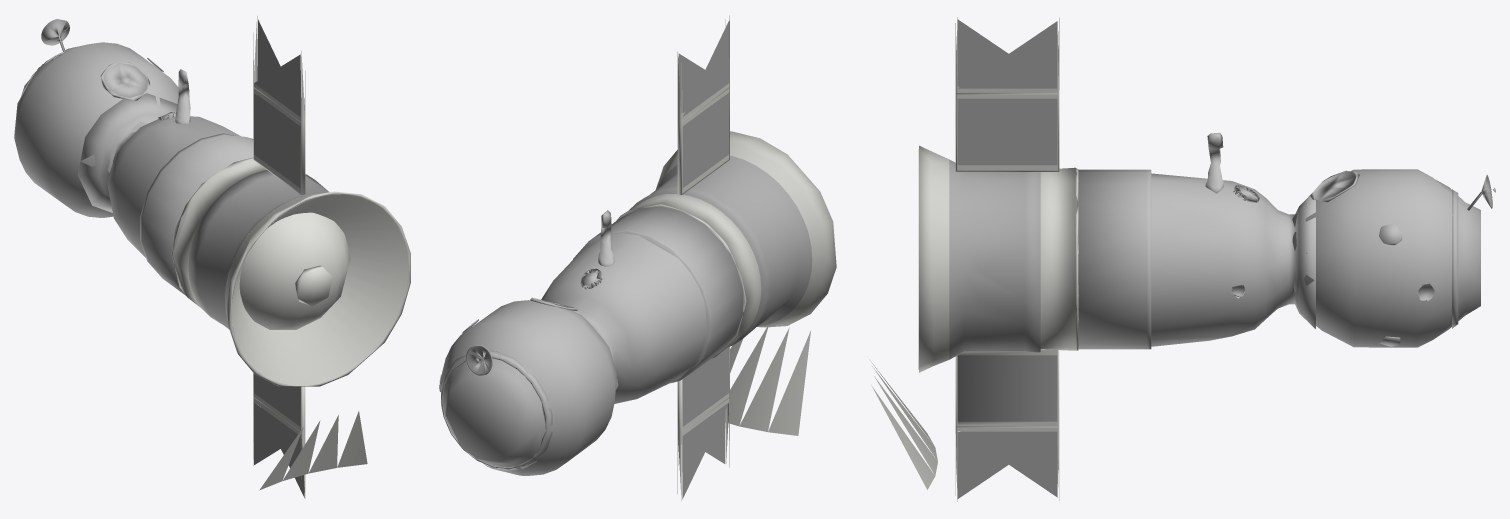
The model's file is iss-soyuz-zvezda-nadir.glb.
3 renders of one model, left to right at view 1: azimuth 30°, elevation 25°; view 2: azimuth 150°, elevation 25°; view 3: azimuth 270°, elevation 25°, orthographic. The views are drawn at different scales.
Parts seen in each view (by area): view 1: soyuz-zvezda-nadir; view 2: soyuz-zvezda-nadir; view 3: soyuz-zvezda-nadir.
Boxes of the visible parts, bbox=[...] form: soyuz-zvezda-nadir: bbox=[14, 16, 410, 498]; soyuz-zvezda-nadir: bbox=[439, 15, 836, 501]; soyuz-zvezda-nadir: bbox=[869, 17, 1495, 501].
Size of the model in its own units: 2.29 by 5.48 by 6.4.
1 material, 1 textured.
